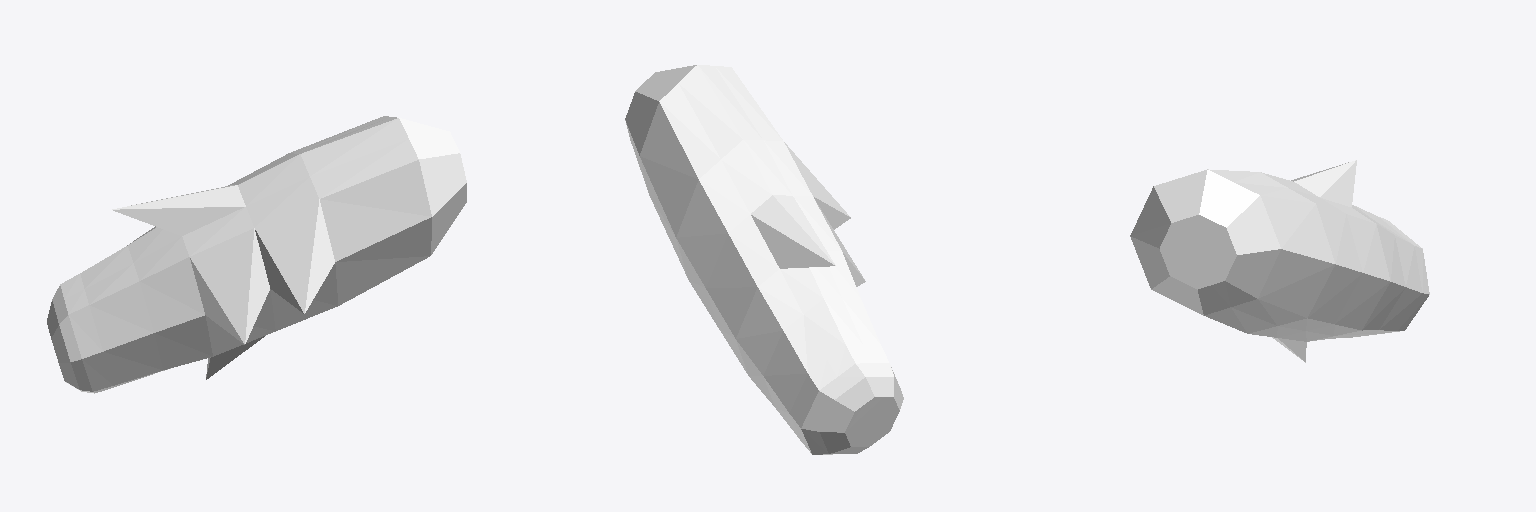
Rendered from UpArmL.obj.
3 views of the same model, side by side, from view 1: azimuth 30°, elevation 25°; view 2: azimuth 150°, elevation 25°; view 3: azimuth 270°, elevation 25° (orthographic).
Parts seen in each view (by area): view 1: Upperarml1; view 2: Upperarml1; view 3: Upperarml1.
Boxes of the visible parts, x1,y1,x2,y2 form: Upperarml1: [47, 116, 466, 393]; Upperarml1: [625, 65, 903, 454]; Upperarml1: [1130, 160, 1429, 362].
Bounding box in the file's own units: 2.94 × 2.36 × 2.31.